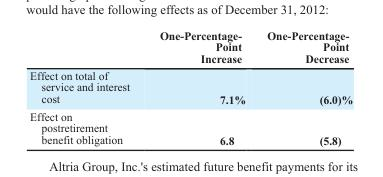table: (29, 28, 352, 146)
table column: (29, 28, 144, 146), (144, 28, 255, 146), (255, 28, 352, 146)
table column header: (29, 28, 352, 66)
table row: (29, 66, 352, 107), (29, 107, 352, 146), (29, 28, 352, 66)
